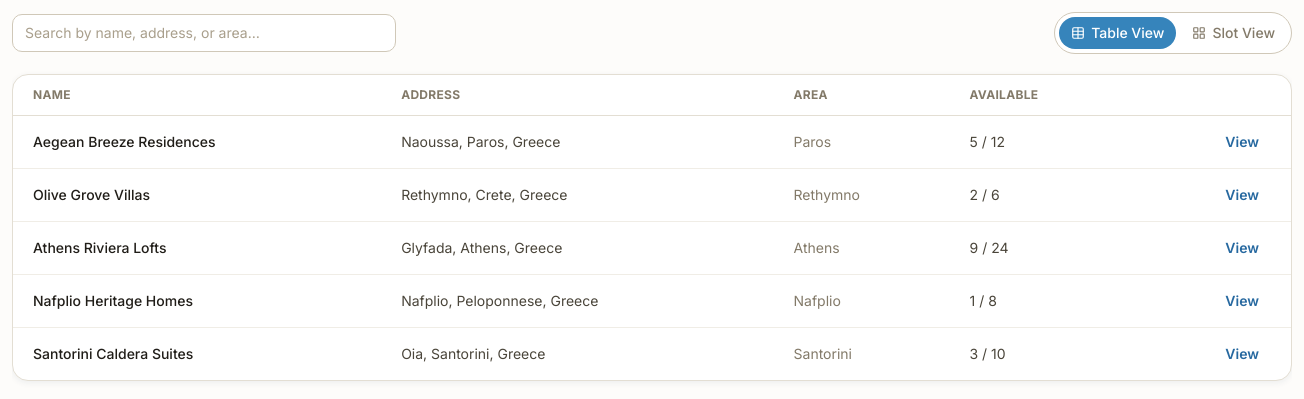
Test: ProjectsExplorer › filters visible projects by name, address, or area as the user types
Expected: the text "Aegean Breeze Residences" is shown, [13,116,381,168]
Expected: the text "Olive Grove Villas" is shown, [13,168,381,222]
Type "paros" into the field named "Search projects" at point(204, 33), box [12,14,396,52]
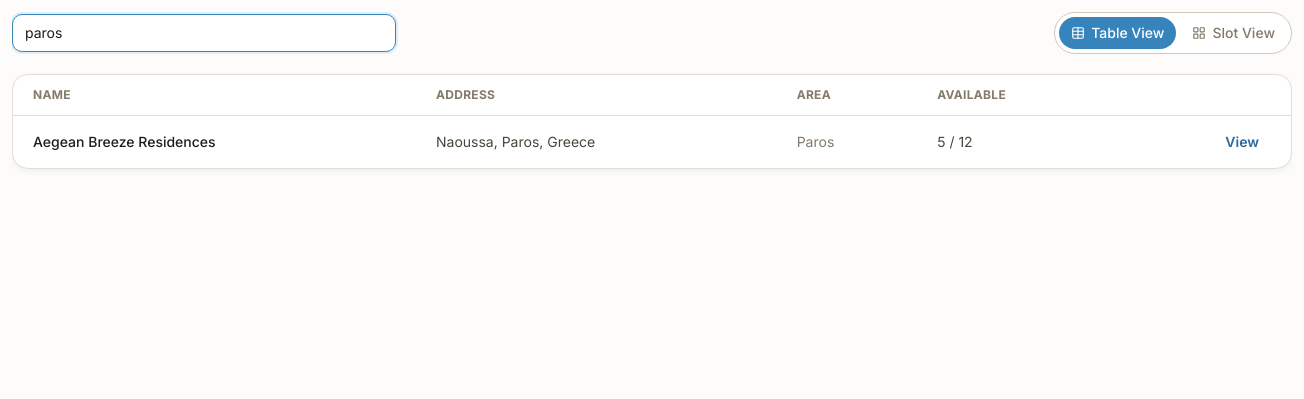
Result: the text "Olive Grove Villas" is gone
Result: the text "Athens Riviera Lofts" is gone
Result: the text "Nafplio Heritage Homes" is gone
